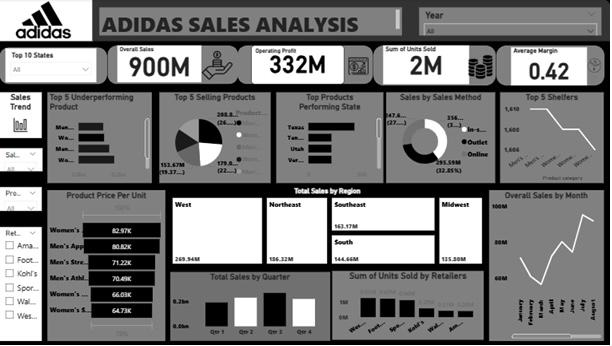

Layout of this report page (visuals, bound fields, positions):
{"tool":"powerbi","page":{"name":"Overview","canvas":[1280,720],"ordinal":0},"visuals":[{"type":"shape","box":[785.2,97.8,255.1,83.6],"z":0},{"type":"shape","box":[503.1,97.8,282,80.8],"z":1000},{"type":"shape","box":[233.9,97.8,272.1,80.8],"z":2000},{"type":"shape","box":[202.7,0,1077.2,89.3],"z":3000},{"type":"shape","box":[0,0,97.4,720.6],"z":4000},{"type":"slicer","fields":{"Values":["Data Sales Adidas.Invoice Date.Variation.Date Hierarchy.Year"]},"box":[881.6,18.4,378.4,58.1],"z":5000},{"type":"textbox","box":[218.3,18.4,627.9,58.1],"z":6000},{"type":"card","title":"Overall Sales","fields":{"Values":["Data Sales Adidas.Overall Sales"]},"box":[255.1,97.5,174.2,76.7],"z":7000},{"type":"card","title":"Sum of Units Sold","fields":{"Values":["Sum(Data Sales Adidas.Units Sold)"]},"box":[806.7,97.5,178.3,80.9],"z":8000},{"type":"card","title":"Operating Profit","fields":{"Values":["Sum(Data Sales Adidas.Operating Profit)"]},"box":[533,97.5,192.9,80.9],"z":9000},{"type":"lineChart","title":"Top 5 Shelfers ","fields":{"Category":["Data Sales Adidas.Product"],"Y":["CountNonNull(Data Sales Adidas.City)"]},"box":[1050.2,194.2,215.4,188.5],"z":10000},{"type":"pieChart","title":"Top 5 Selling Products","fields":{"Category":["Data Sales Adidas.Product"],"Y":["Data Sales Adidas.Overall Sales"]},"box":[343,194.2,231,188.5],"z":11000},{"type":"lineChart","fields":{"Category":["Data Sales Adidas.Invoice Date.Variation.Date Hierarchy.Month"],"Y":["Data Sales Adidas.Overall Sales"]},"box":[1027.6,398.3,238.1,313.2],"z":12000},{"type":"columnChart","title":"Total Sales by Quarter","fields":{"Y":["Data Sales Adidas.Overall Sales"],"Category":["Data Sales Adidas.Invoice Date.Variation.Date Hierarchy.Quarter"]},"box":[364.3,568.3,331.7,143.1],"z":13000},{"type":"barChart","title":"Top 5 Underperforming Product","fields":{"Category":["Data Sales Adidas.Product"],"Y":["Sum(Data Sales Adidas.Total Sales)"]},"box":[110.6,194.2,216.9,188.5],"z":14000},{"type":"clusteredBarChart","title":"Top Products Performing State","fields":{"Category":["Data Sales Adidas.State"],"Y":["CountNonNull(Data Sales Adidas.Product category)"]},"box":[583.9,194.2,222.5,188.5],"z":15000},{"type":"image","box":[724.3,112,63.8,56.7],"z":16000},{"type":"image","box":[399.7,97.8,123.3,76.5],"z":17000},{"type":"image","box":[975.1,103.5,68,78],"z":18000},{"type":"image","box":[0,0,203.2,89.2],"z":19000},{"type":"funnel","title":"Product Price Per Unit ","fields":{"Category":["Data Sales Adidas.Product category"],"Y":["Sum(Data Sales Adidas.Price per Unit)"]},"box":[110.6,398.3,245.2,313.2],"z":20000},{"type":"slicer","fields":{"Values":["Data Sales Adidas.Product category"]},"box":[9.9,392.6,87.9,49.6],"z":21000},{"type":"slicer","fields":{"Values":["Data Sales Adidas.Retailer"]},"box":[9.9,474.8,87.9,236.7],"z":22000},{"type":"slicer","fields":{"Values":["Data Sales Adidas.Sales Method"]},"box":[9.9,311.8,87.9,48.2],"z":23000},{"type":"lineChart","title":"Sales Trend","fields":{"Category":["Data Sales Adidas.Invoice Date.Variation.Date Hierarchy.Year","Data Sales Adidas.Invoice Date.Variation.Date Hierarchy.Quarter","Data Sales Adidas.Invoice Date.Variation.Date Hierarchy.Month","Data Sales Adidas.Invoice Date.Variation.Date Hierarchy.Day"],"Y":["Sum(Data Sales Adidas.Total Sales)"],"Series":["Data Sales Adidas.Sales Method"]},"box":[9.9,194.2,87.9,95],"z":24000},{"type":"donutChart","title":"Sales by Sales Method","fields":{"Category":["Data Sales Adidas.Sales Method"],"Y":["Sum(Data Sales Adidas.Total Sales)"]},"box":[813.5,194.2,226.8,188.5],"z":25000},{"type":"treemap","title":"Total Sales by Region","fields":{"Group":["Data Sales Adidas.Region"],"Values":["Sum(Data Sales Adidas.Total Sales)"]},"box":[364.3,392.6,652,164.4],"z":26000},{"type":"clusteredColumnChart","title":"Sum of Units Sold by Retailers","fields":{"Category":["Data Sales Adidas.Retailer"],"Y":["Sum(Data Sales Adidas.Units Sold)"]},"box":[701.6,566.9,314.6,143.1],"z":27000},{"type":"shape","box":[9.9,102,223.9,76.5],"z":28000},{"type":"slicer","fields":{"Values":["Data Sales Adidas.State"]},"box":[22.8,103.7,188.7,70.5],"z":29000},{"type":"shape","box":[1040.3,97.8,225.4,83.6],"z":30000},{"type":"card","title":"Average Margin","fields":{"Values":["Data Sales Adidas.Average Margin"]},"box":[1072.2,101.6,157.6,78.8],"z":31000},{"type":"image","box":[1211.8,112,68,66.6],"z":32000}]}

Visuals, with their boxes in screenshot pixels (x1, y1, x2, y2), scaled from the page's 1280x720 canvas onto the 612x346 screenshot:
shape: 375, 47, 497, 87
shape: 241, 47, 375, 86
shape: 112, 47, 242, 86
shape: 97, 0, 611, 43
shape: 0, 0, 47, 345
slicer - Data Sales Adidas.Invoice Date.Variation.Date Hierarchy.Year: 422, 9, 602, 37
textbox: 104, 9, 405, 37
"Overall Sales" card: 122, 47, 205, 84
"Sum of Units Sold" card: 386, 47, 471, 86
"Operating Profit" card: 255, 47, 347, 86
"Top 5 Shelfers " lineChart: 502, 93, 605, 184
"Top 5 Selling Products" pieChart: 164, 93, 274, 184
lineChart - Data Sales Adidas.Invoice Date.Variation.Date Hierarchy.Month x Data Sales Adidas.Overall Sales: 491, 191, 605, 342
"Total Sales by Quarter" columnChart: 174, 273, 333, 342
"Top 5 Underperforming Product" barChart: 53, 93, 157, 184
"Top Products Performing State" clusteredBarChart: 279, 93, 386, 184
image: 346, 54, 377, 81
image: 191, 47, 250, 84
image: 466, 50, 499, 87
image: 0, 0, 97, 43
"Product Price Per Unit " funnel: 53, 191, 170, 342
slicer - Data Sales Adidas.Product category: 5, 189, 47, 213
slicer - Data Sales Adidas.Retailer: 5, 228, 47, 342
slicer - Data Sales Adidas.Sales Method: 5, 150, 47, 173
"Sales Trend" lineChart: 5, 93, 47, 139
"Sales by Sales Method" donutChart: 389, 93, 497, 184
"Total Sales by Region" treemap: 174, 189, 486, 268
"Sum of Units Sold by Retailers" clusteredColumnChart: 335, 272, 486, 341
shape: 5, 49, 112, 86
slicer - Data Sales Adidas.State: 11, 50, 101, 84
shape: 497, 47, 605, 87
"Average Margin" card: 513, 49, 588, 87
image: 579, 54, 611, 86
